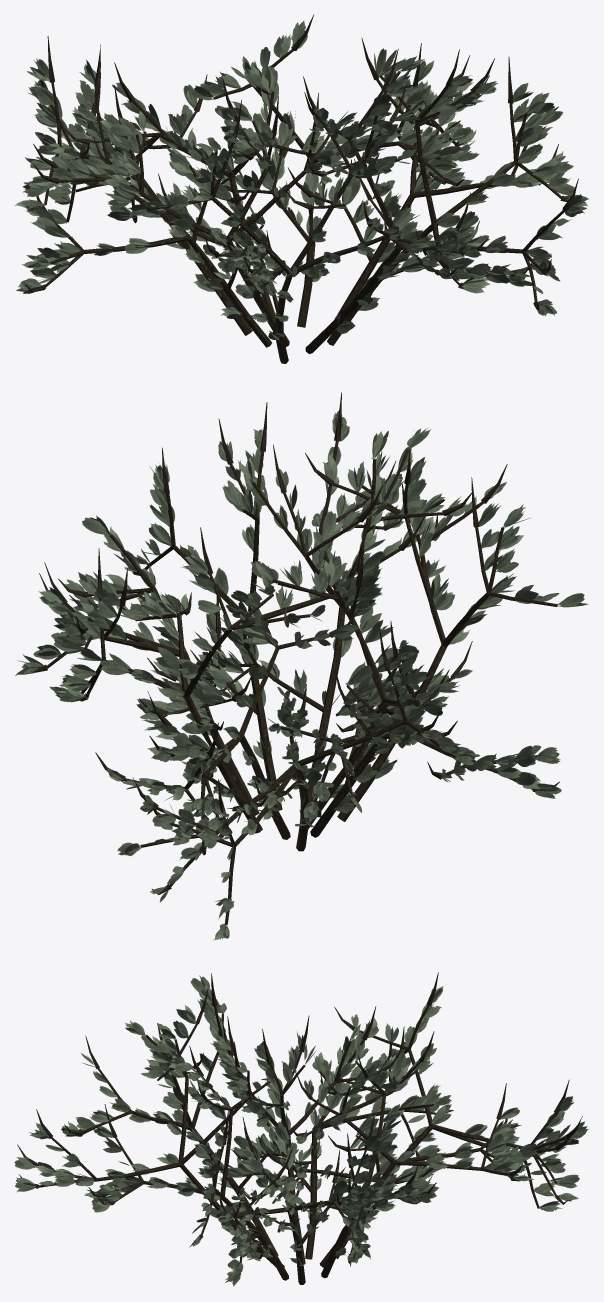
Rendered from thorn_scrub_v01.glb.
3 renders of one model, top to bottom at view 1: azimuth 30°, elevation 25°; view 2: azimuth 150°, elevation 25°; view 3: azimuth 270°, elevation 25°, orthographic. The views are drawn at different scales.
Parts seen in each view (by area): view 1: thorn_scrub_v01; view 2: thorn_scrub_v01; view 3: thorn_scrub_v01.
Boxes of the visible parts, box(x1,y1,x2,y2) form: thorn_scrub_v01: box(15, 14, 588, 363); thorn_scrub_v01: box(15, 392, 588, 940); thorn_scrub_v01: box(14, 972, 588, 1286).
Bounding box in the file's own units: 2.21 × 1.33 × 2.66.
2 materials, 2 textured.
